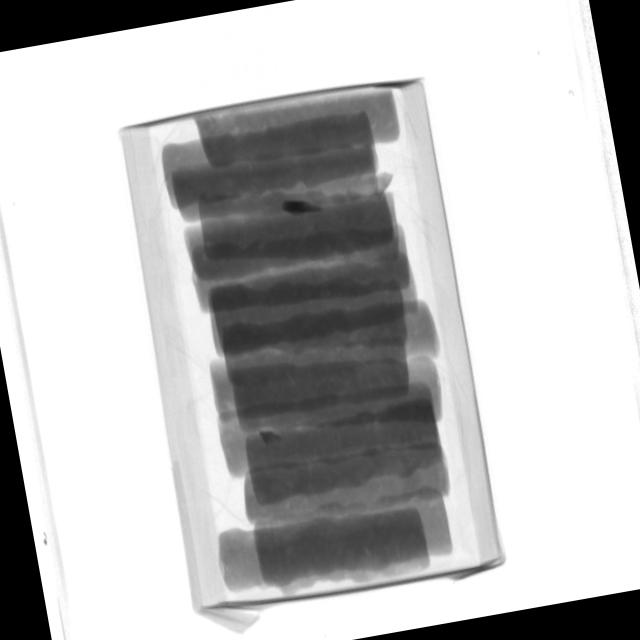ym: (283, 195, 323, 218), (261, 427, 287, 446)
